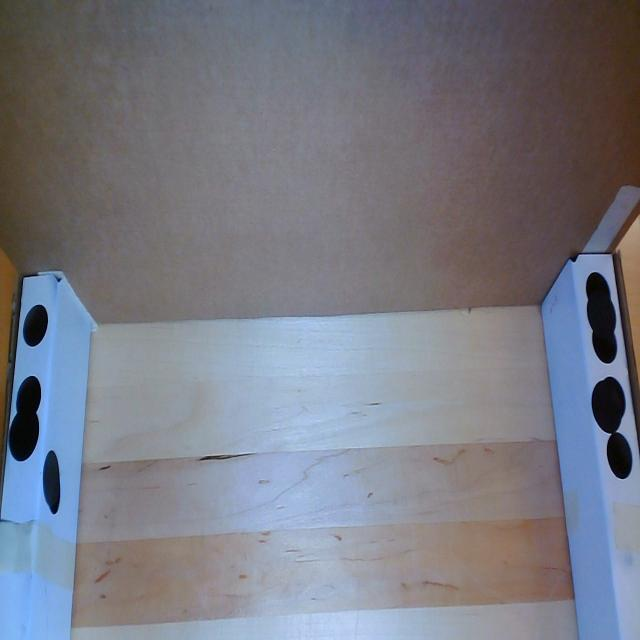Hole: (606, 430, 635, 482), (13, 372, 44, 416), (22, 301, 49, 347), (592, 326, 620, 366), (586, 272, 612, 307), (48, 473, 61, 517)
Sticker: (9, 410, 40, 464), (591, 380, 621, 433), (587, 295, 617, 336), (603, 376, 626, 424), (43, 450, 59, 507)
